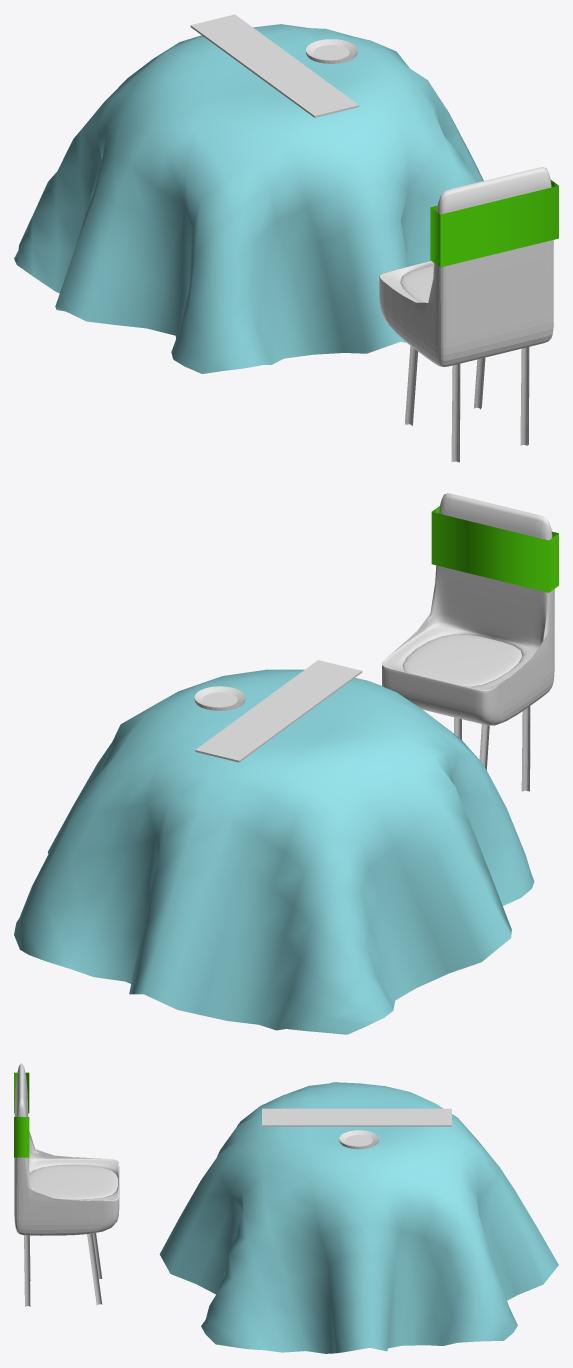
Rendered from PfScene.gltf.
3 views of the same model, one above another, from view 1: azimuth 30°, elevation 25°; view 2: azimuth 150°, elevation 25°; view 3: azimuth 270°, elevation 25° (orthographic). The views are drawn at different scales.
Parts seen in each view (by area): view 1: TableCloth, Chair.001, ChairRunner, TableRunner, Plate; view 2: TableCloth, Chair.001, ChairRunner, TableRunner, Plate; view 3: TableCloth, Chair.001, TableRunner, ChairRunner, Plate.
Part boxes in pixels (x1,y1,x2,y2): TableCloth: (14, 24, 483, 373); Chair.001: (379, 167, 553, 462); ChairRunner: (430, 180, 558, 267); TableRunner: (190, 14, 359, 117); Plate: (306, 39, 357, 63); TableCloth: (14, 669, 534, 1034); Chair.001: (382, 493, 554, 791); ChairRunner: (431, 506, 558, 592); TableRunner: (195, 660, 362, 762); Plate: (194, 686, 245, 710); TableCloth: (159, 1082, 558, 1353); Chair.001: (14, 1063, 119, 1306); TableRunner: (262, 1108, 451, 1126); ChairRunner: (14, 1072, 29, 1157); Plate: (339, 1130, 378, 1149).
Size of the model in its own units: 152 by 92.26 by 208.
